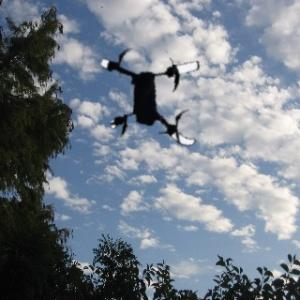drone: (94, 32, 223, 161)
